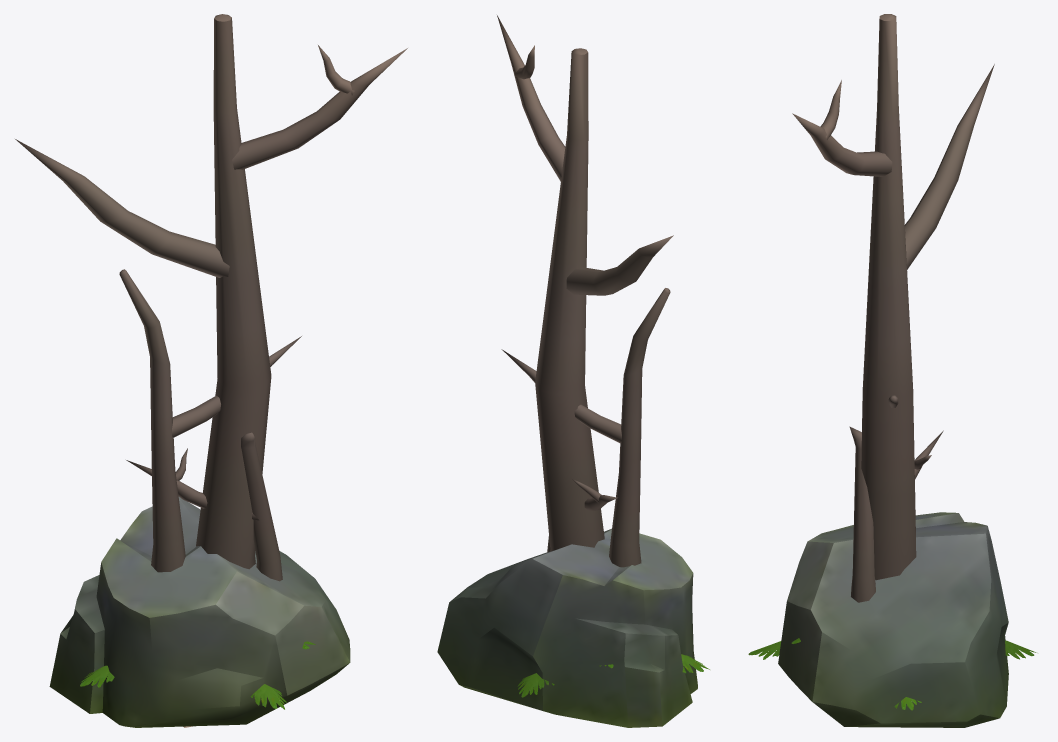
File: props_forest.fe7882ffef.glb
3 views of the same model, side by side, from view 1: azimuth 30°, elevation 25°; view 2: azimuth 150°, elevation 25°; view 3: azimuth 270°, elevation 25° (orthographic). The views are drawn at different scales.
Parts seen in each view (by area): view 1: rock_b, tree_dead_l_tree_dead_large, tree_dead_m_tree_dead_medium, tree_dead_s_tree_dead_small, fern; view 2: rock_b, tree_dead_l_tree_dead_large, tree_dead_m_tree_dead_medium, fern, tree_dead_s_tree_dead_small; view 3: rock_b, tree_dead_l_tree_dead_large, tree_dead_s_tree_dead_small, fern.
Boxes of the visible parts, <box> form: rock_b: <box>49,496,350,727</box>; tree_dead_l_tree_dead_large: <box>15,14,407,569</box>; tree_dead_m_tree_dead_medium: <box>119,269,301,572</box>; tree_dead_s_tree_dead_small: <box>126,432,282,581</box>; fern: <box>80,641,315,709</box>; rock_b: <box>437,528,697,727</box>; tree_dead_l_tree_dead_large: <box>497,15,673,551</box>; tree_dead_m_tree_dead_medium: <box>501,288,670,567</box>; fern: <box>517,654,709,697</box>; tree_dead_s_tree_dead_small: <box>547,479,617,552</box>; rock_b: <box>778,512,1008,727</box>; tree_dead_l_tree_dead_large: <box>792,14,994,580</box>; tree_dead_s_tree_dead_small: <box>849,426,943,602</box>; fern: <box>748,638,1036,710</box>.
Size of the model in its own units: 2.5 by 5.5 by 2.21.
8 materials, 6 textured.
